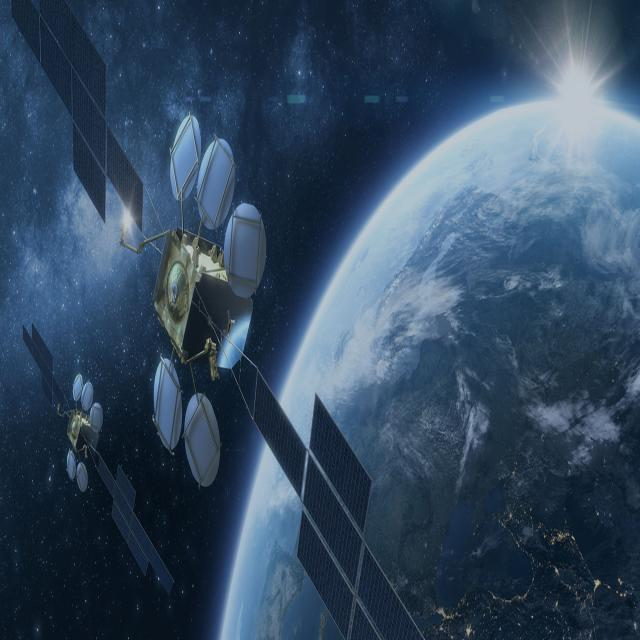satellite: (7, 3, 444, 640), (7, 310, 188, 606)
